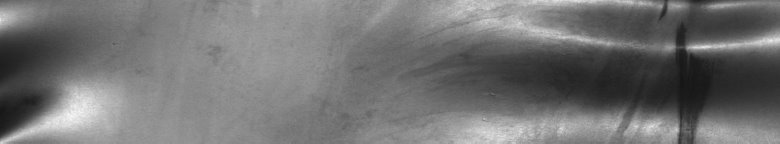ke: (358, 4, 776, 136)
